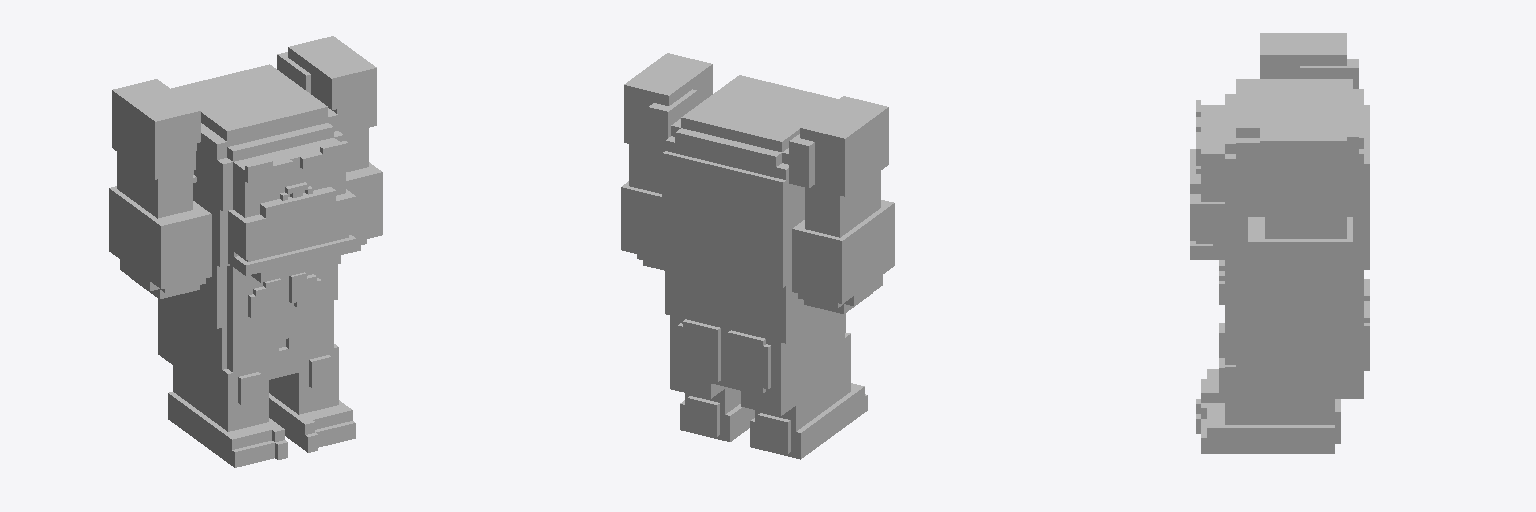
File: Monkey-hold.obj
3 renders of one model, left to right at view 1: azimuth 30°, elevation 25°; view 2: azimuth 150°, elevation 25°; view 3: azimuth 270°, elevation 25°, orthographic.
Bounding box in the file's own units: 44 × 64 × 31.